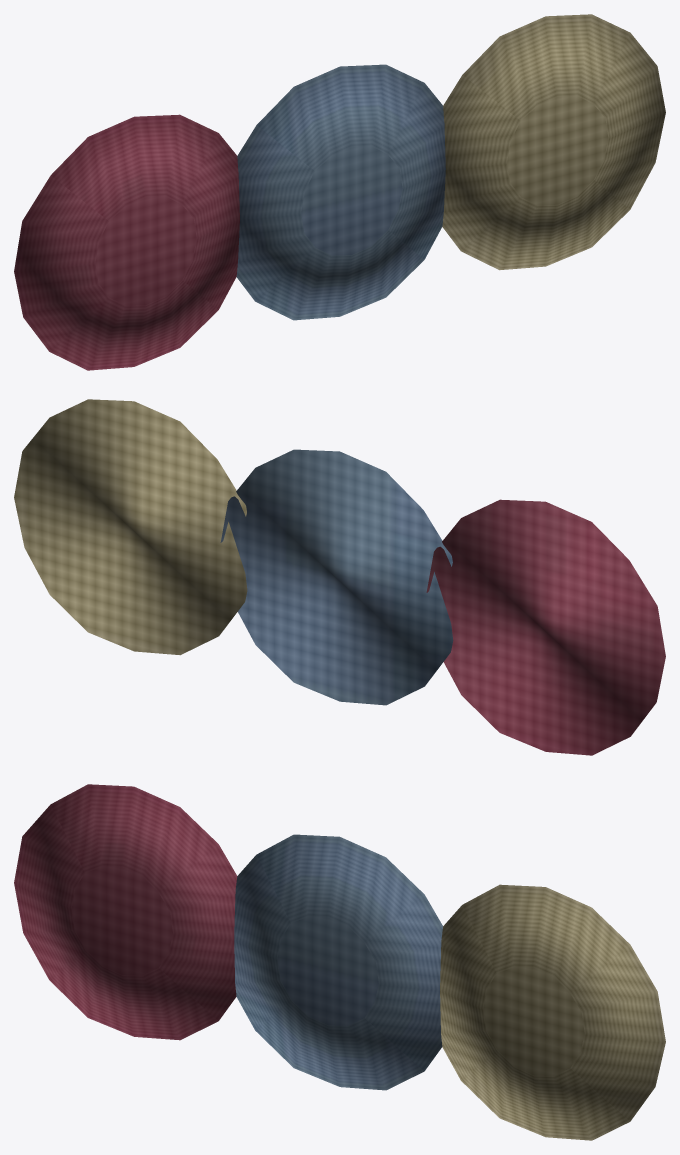
The model's file is CL17_DollDresses.glb.
3 views of the same model, one above another, from view 1: azimuth 30°, elevation 25°; view 2: azimuth 150°, elevation 25°; view 3: azimuth 330°, elevation 25° (orthographic).
Visible parts, largest first — view 1: CL17_DollDresses; view 2: CL17_DollDresses; view 3: CL17_DollDresses.
Part boxes in pixels (x1=…): CL17_DollDresses: x1=14, y1=14, x2=665, y2=370; CL17_DollDresses: x1=14, y1=399, x2=665, y2=755; CL17_DollDresses: x1=14, y1=784, x2=665, y2=1140.
Bounding box in the file's own units: 0.2 × 0.0734 × 0.00636.
Materials: 3 (3 with a texture image).
